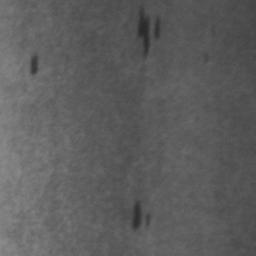Inclusion: (138, 14, 160, 55), (132, 201, 143, 230), (29, 55, 40, 76)
